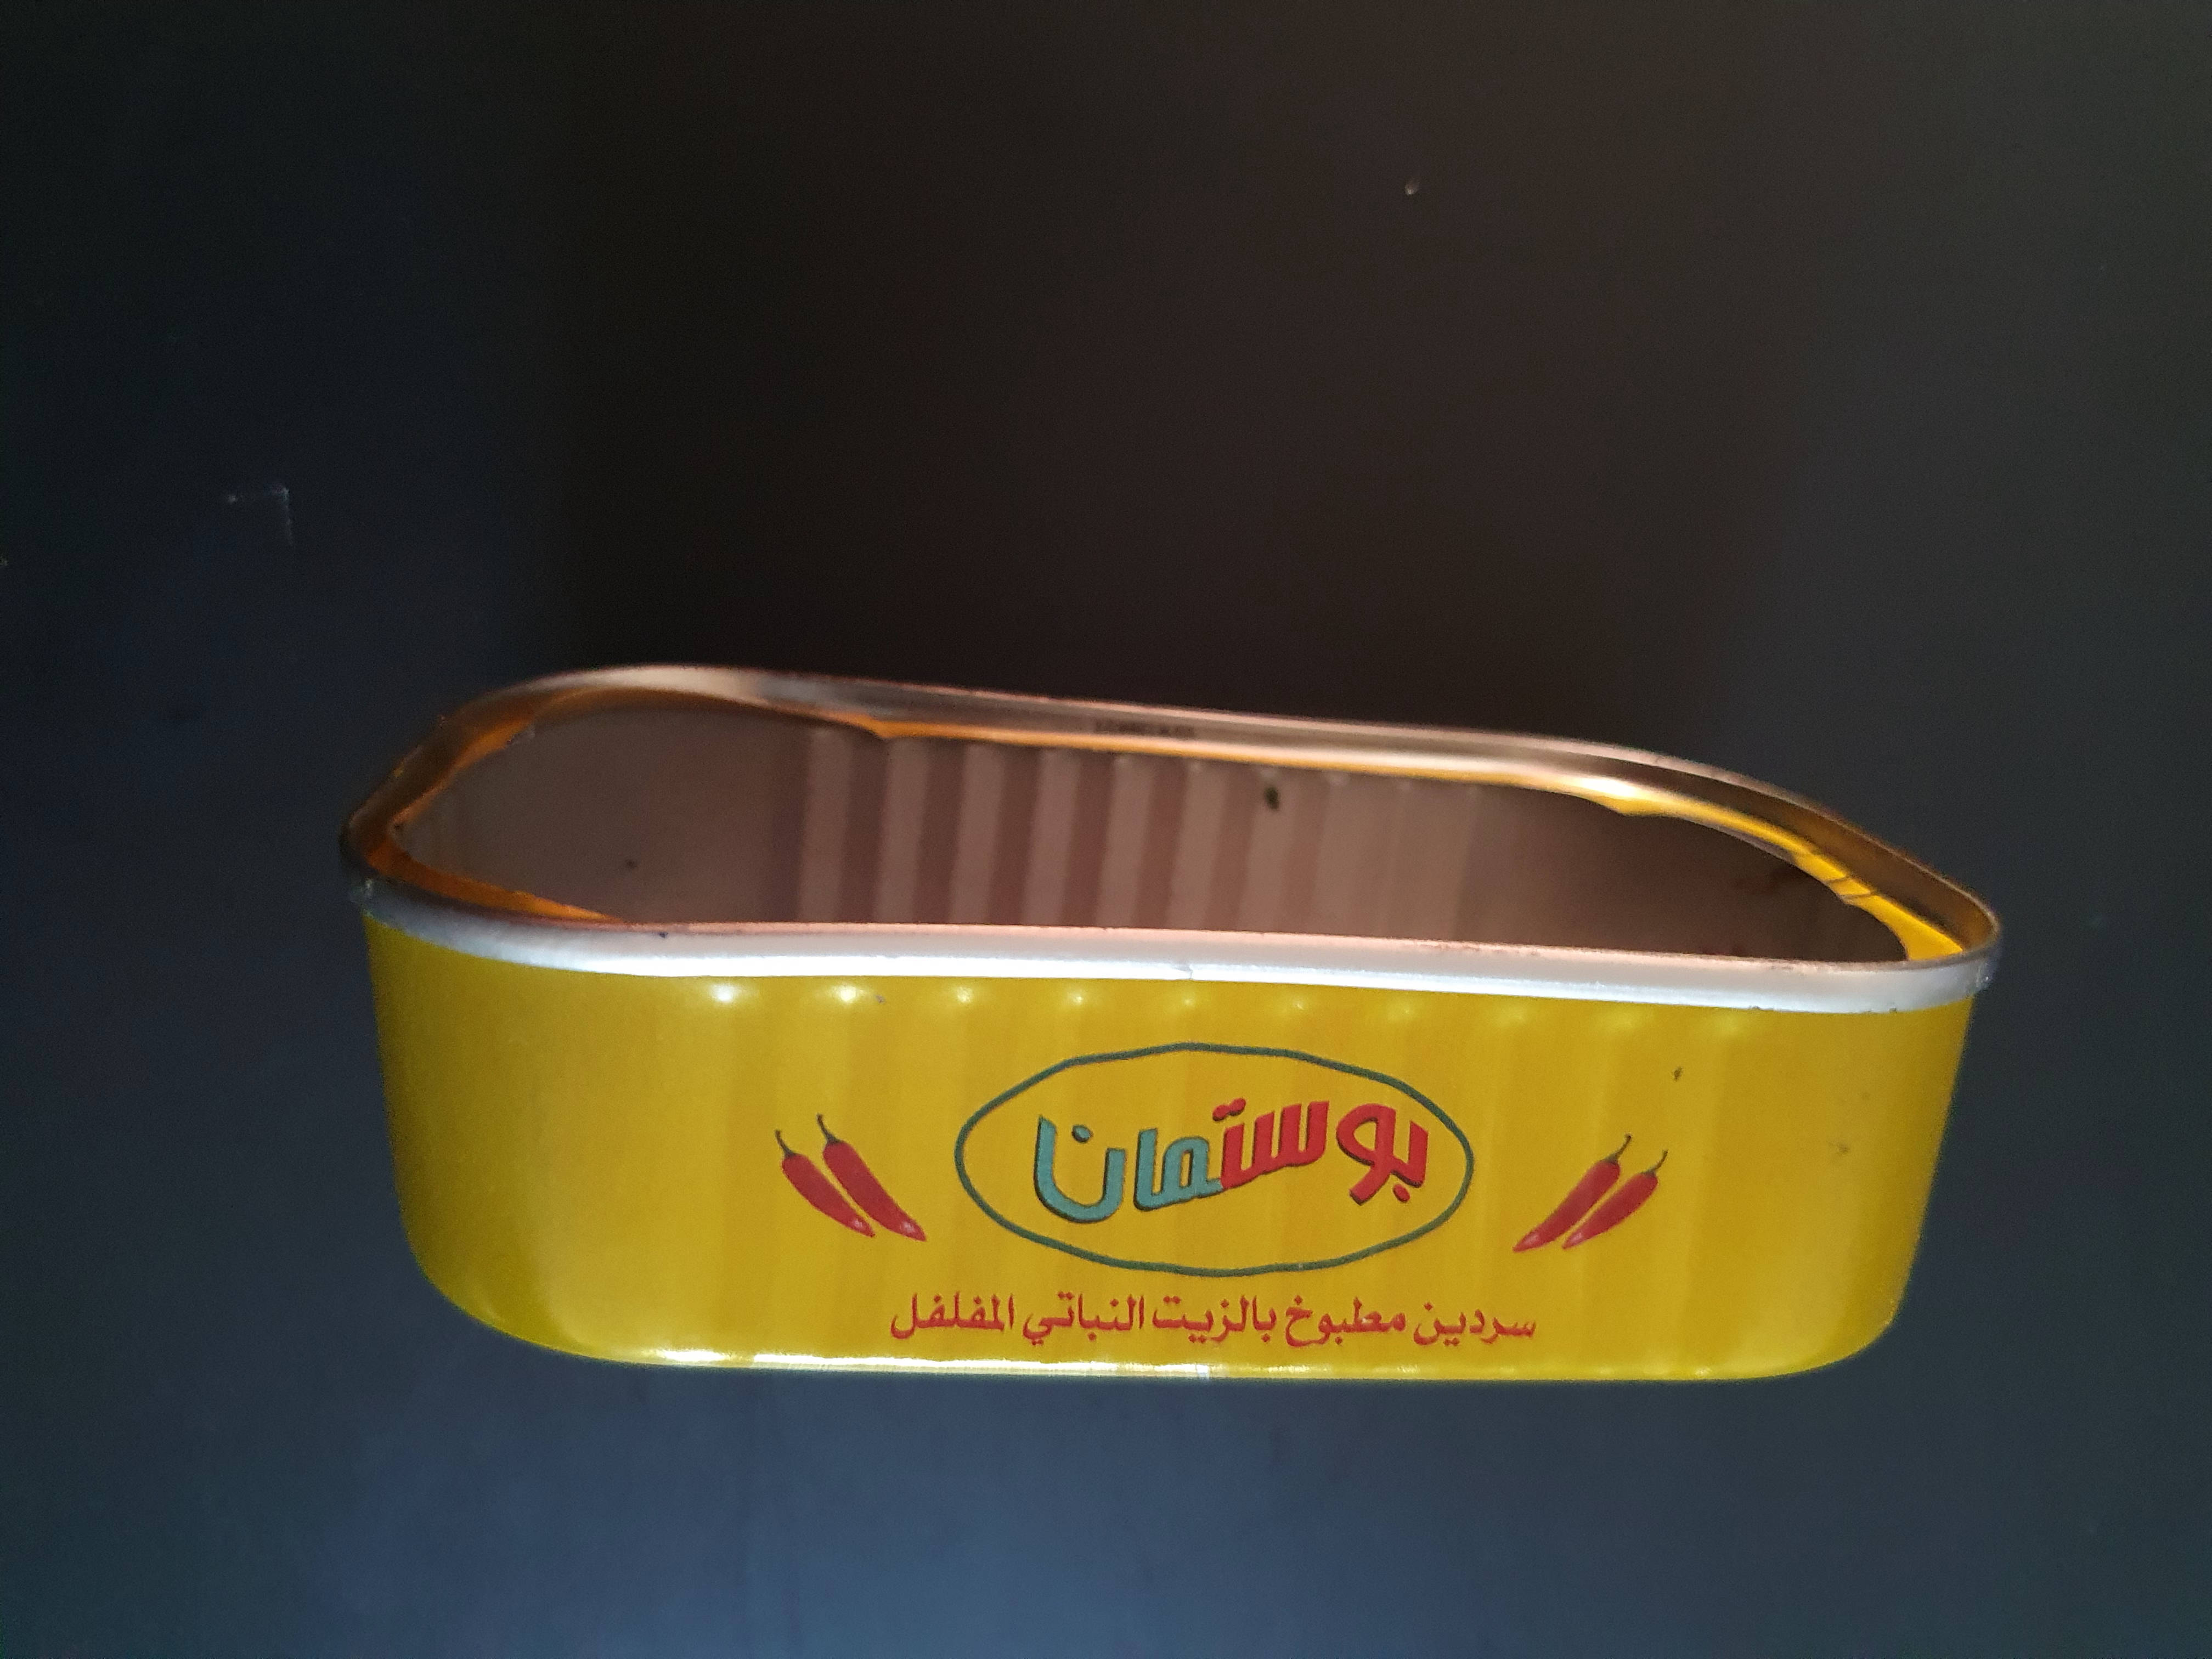metal: (310, 584, 2036, 1455)
